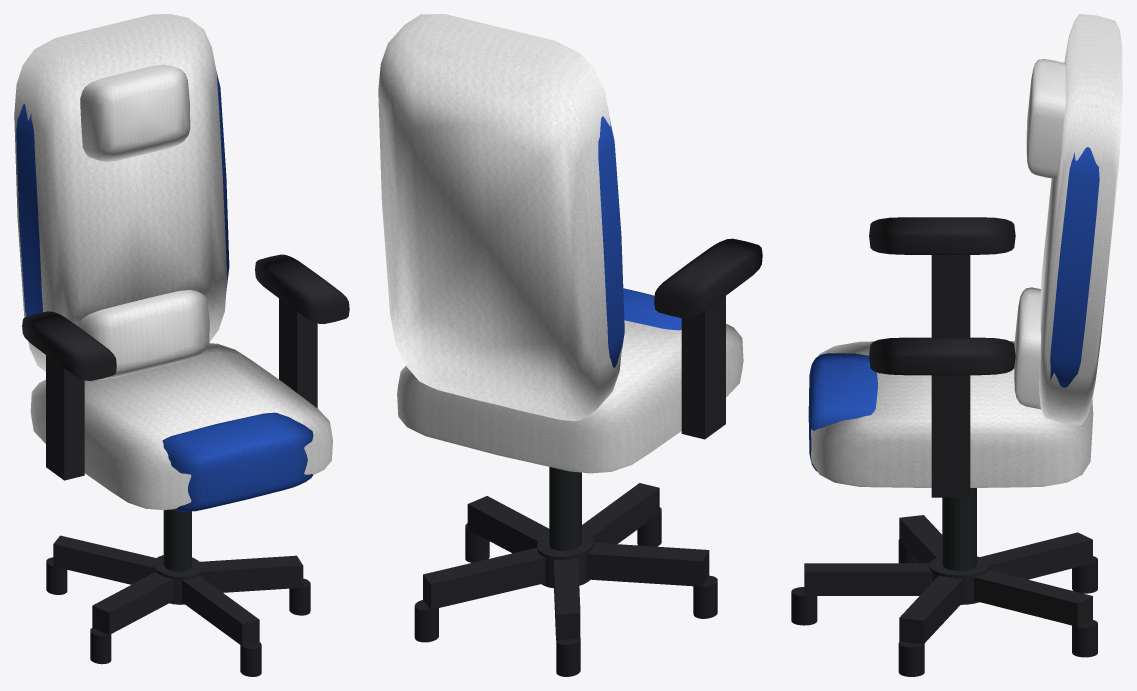
The picture shows the model from 3 angles, left to right: view 1: azimuth 30°, elevation 25°; view 2: azimuth 150°, elevation 25°; view 3: azimuth 270°, elevation 25°; orthographic projection. The views are drawn at different scales.
Visible parts, largest first — view 1: 1 backrest, 5 seat, 6 seat_blue_front, 3 headrest, 4 lumbar_pillow, 2 backrest_blue_trim, 7 armrest_left_post, 10 armrest_right_pad, 8 armrest_left_pad, 9 armrest_right_post, 14 base_spoke_2, 16 base_spoke_4 (+8 smaller); view 2: 1 backrest, 5 seat, 7 armrest_left_post, 8 armrest_left_pad, 17 base_spoke_5, 15 base_spoke_3, 2 backrest_blue_trim, 14 base_spoke_2, 13 base_spoke_1, 11 gas_lift, 16 base_spoke_4, 6 seat_blue_front (+6 smaller); view 3: 5 seat, 1 backrest, 2 backrest_blue_trim, 10 armrest_right_pad, 8 armrest_left_pad, 9 armrest_right_post, 6 seat_blue_front, 13 base_spoke_1, 3 headrest, 15 base_spoke_3, 7 armrest_left_post, 16 base_spoke_4 (+9 smaller).
Boxes of the visible parts, x1,y1,x2,y2 form: 1 backrest: (14,14,226,371); 5 seat: (30,343,332,510); 6 seat_blue_front: (162,412,313,512); 3 headrest: (80,64,190,161); 4 lumbar_pillow: (78,290,209,379); 2 backrest_blue_trim: (16,70,229,316); 7 armrest_left_post: (46,355,84,480); 10 armrest_right_pad: (255,254,349,324); 8 armrest_left_pad: (22,311,116,380); 9 armrest_right_post: (279,298,317,408); 14 base_spoke_2: (200,555,303,592); 16 base_spoke_4: (53,535,155,584); 1 backrest: (378,14,621,420); 5 seat: (397,320,743,473); 7 armrest_left_post: (681,296,725,439); 8 armrest_left_pad: (654,238,762,318); 17 base_spoke_5: (586,542,709,586); 15 base_spoke_3: (423,547,545,609); 2 backrest_blue_trim: (598,116,624,367); 14 base_spoke_2: (467,496,549,553); 13 base_spoke_1: (582,483,659,544); 11 gas_lift: (549,467,581,551); 16 base_spoke_4: (554,557,580,640); 6 seat_blue_front: (623,288,681,330); 5 seat: (811,341,1093,487); 1 backrest: (1039,14,1122,424); 2 backrest_blue_trim: (1050,147,1099,387); 10 armrest_right_pad: (869,337,1015,375); 8 armrest_left_pad: (869,217,1015,254); 9 armrest_right_post: (931,375,970,497); 6 seat_blue_front: (808,353,877,471); 13 base_spoke_1: (804,563,932,595); 3 headrest: (1026,59,1065,178); 15 base_spoke_3: (974,570,1092,626); 7 armrest_left_post: (931,255,970,337); 16 base_spoke_4: (980,532,1092,579).
Bounding box in the file's own units: 0.52 × 1 × 0.52.
5 materials, 2 textured.
